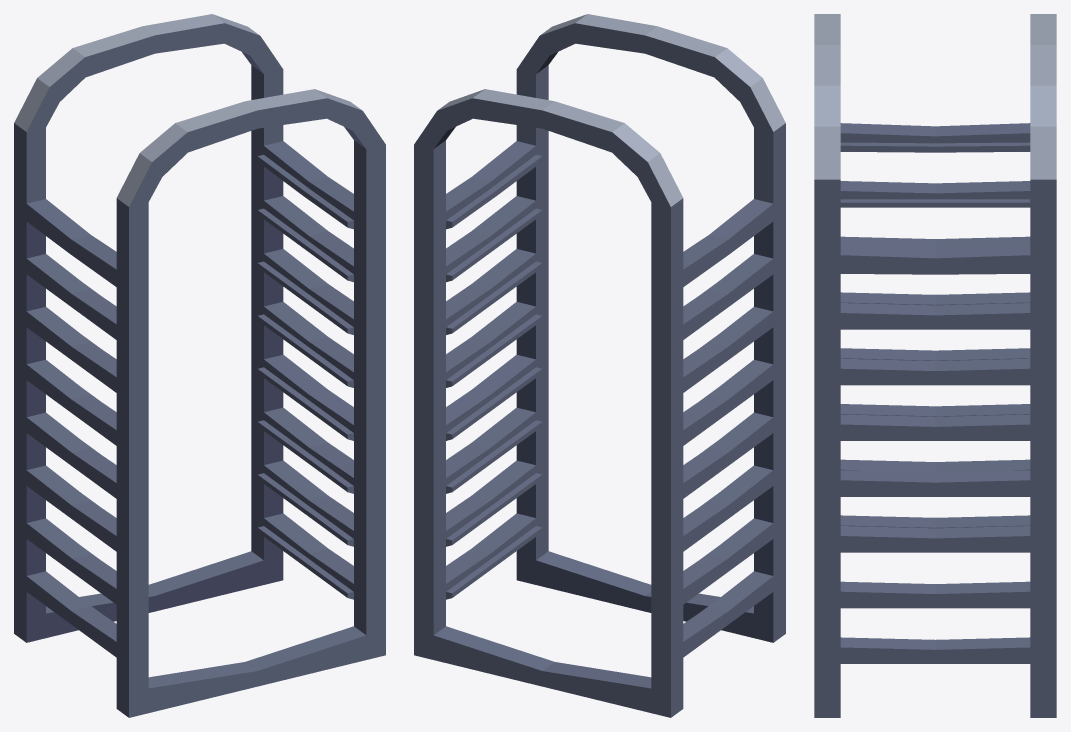
Rendered from tray_holder.fbx.
3 renders of one model, left to right at view 1: azimuth 30°, elevation 25°; view 2: azimuth 150°, elevation 25°; view 3: azimuth 270°, elevation 25°, orthographic. The views are drawn at different scales.
Parts seen in each view (by area): view 1: TrayHolder_Final; view 2: TrayHolder_Final; view 3: TrayHolder_Final.
Boxes of the visible parts, x1,y1,x2,y2 form: TrayHolder_Final: (14,14,385,717); TrayHolder_Final: (414,14,785,717); TrayHolder_Final: (814,14,1056,717).
Size of the model in its own units: 105 by 225 by 81.29.
